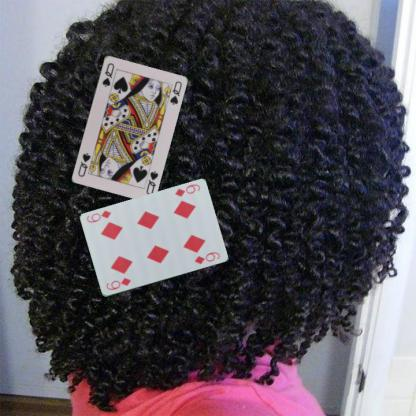6d: (104, 275, 132, 292), (172, 182, 201, 198)
Qs: (99, 60, 115, 88), (144, 168, 160, 196)
